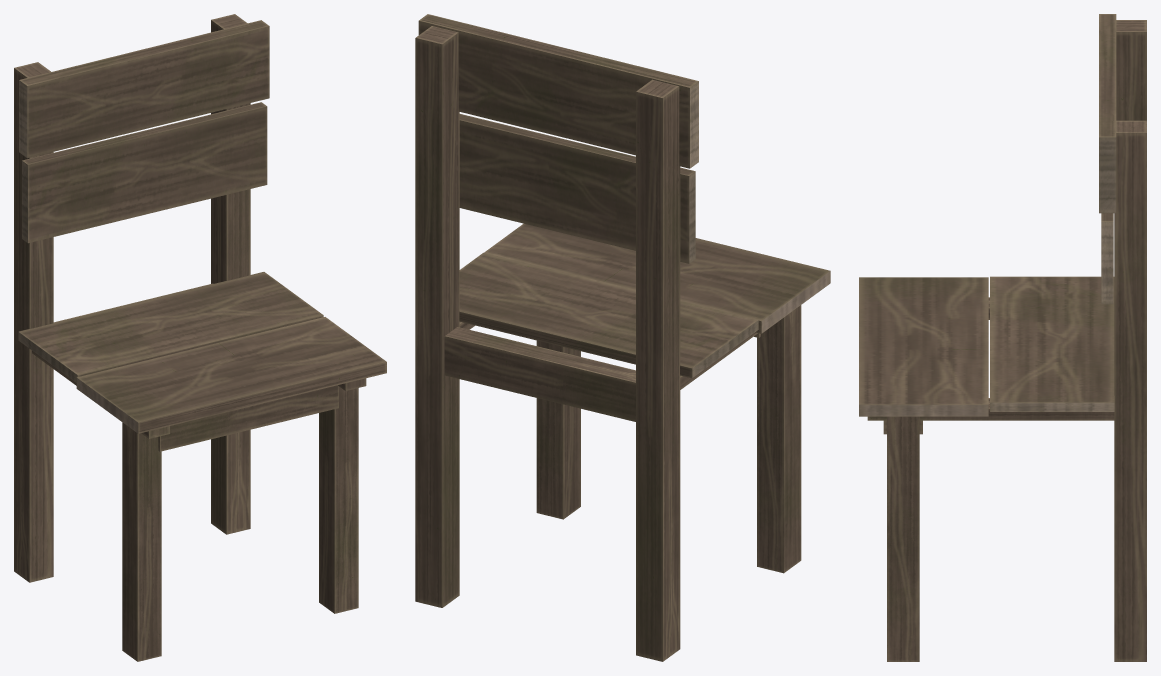
The model's file is SM_chair.fbx.
3 renders of one model, left to right at view 1: azimuth 30°, elevation 25°; view 2: azimuth 150°, elevation 25°; view 3: azimuth 270°, elevation 25°, orthographic. The views are drawn at different scales.
Visible parts, largest first — view 1: Object32478; view 2: Object32478; view 3: Object32478.
Boxes of the visible parts, x1,y1,x2,y2 form: Object32478: [14, 14, 386, 661]; Object32478: [415, 14, 830, 661]; Object32478: [859, 14, 1146, 661].
Bounding box in the file's own units: 24.69 × 47.93 × 23.55.
